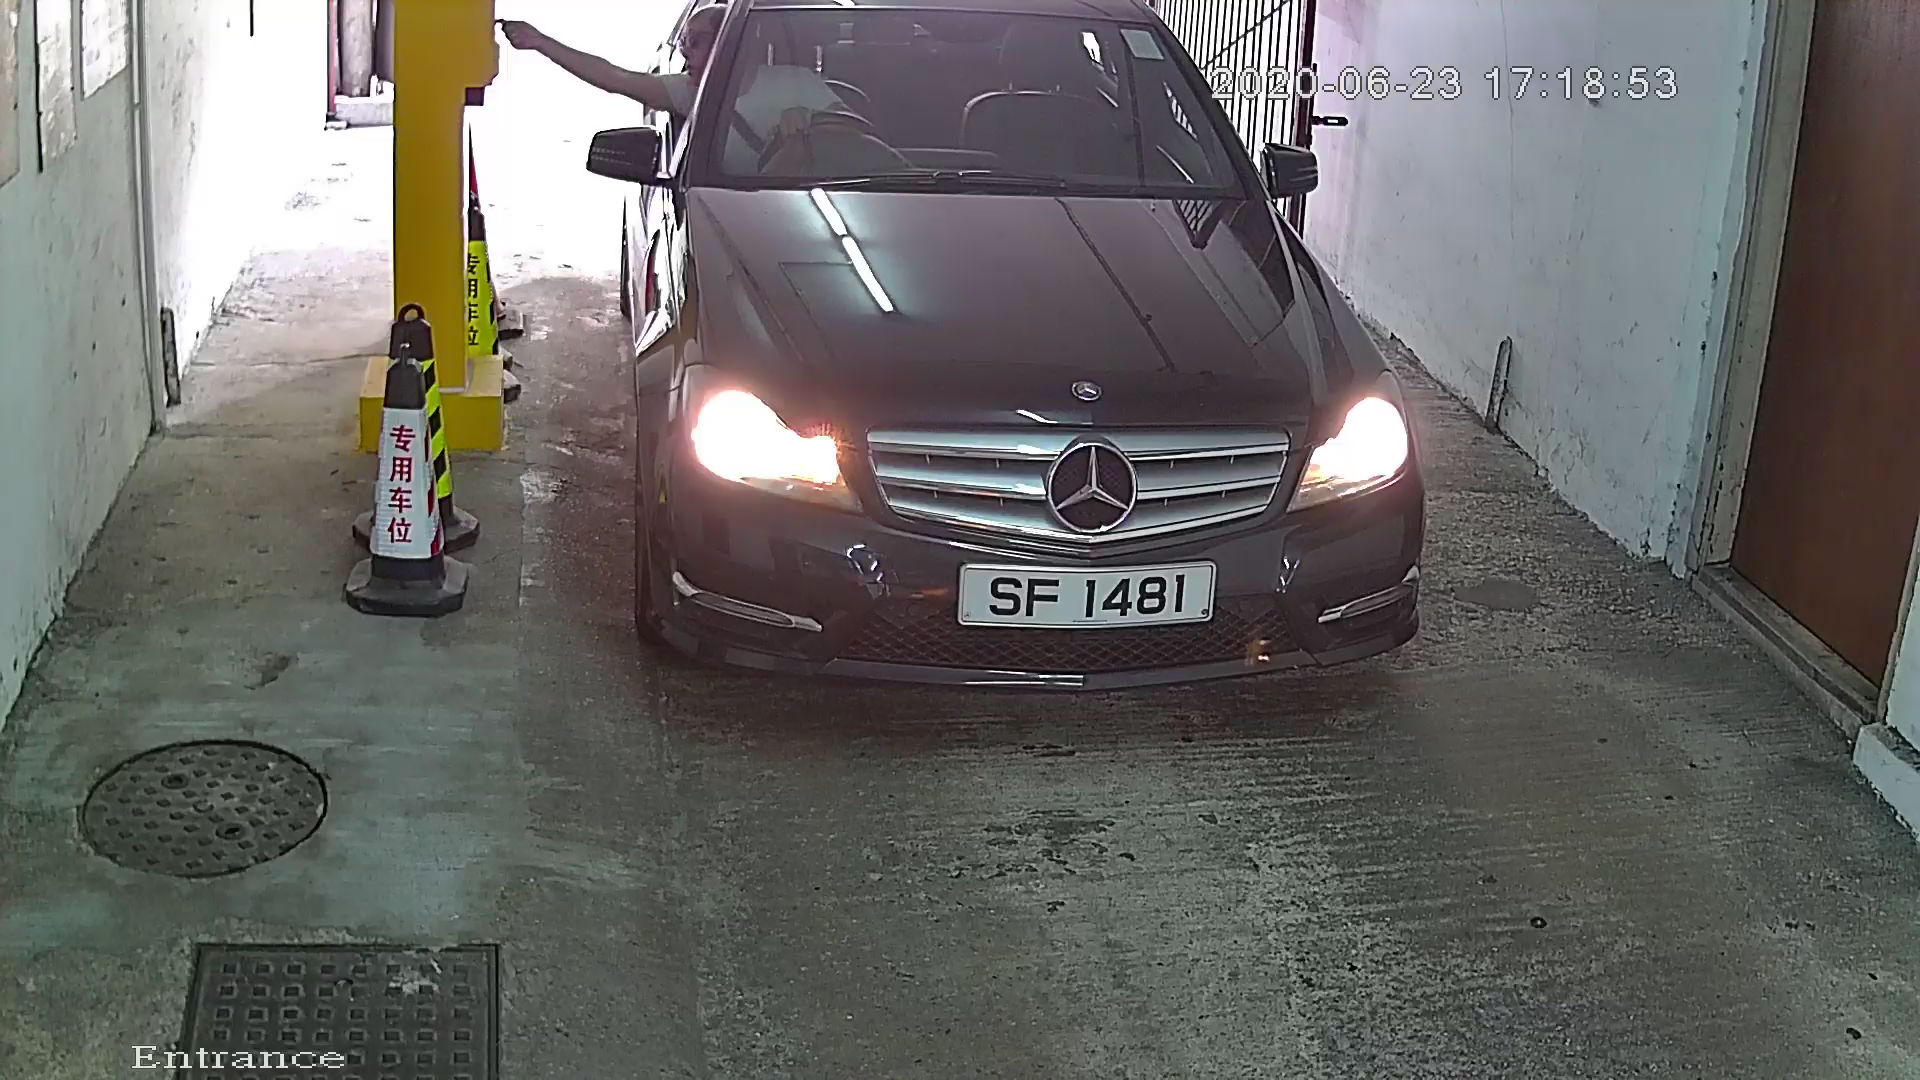privatecar: (560, 3, 1451, 738)
